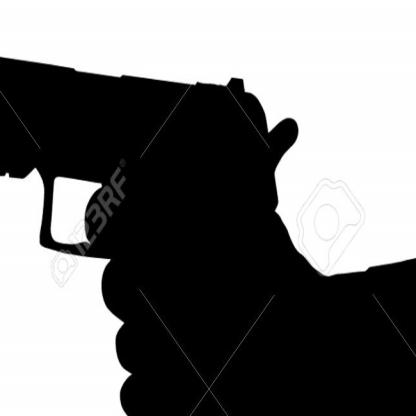gun: (0, 36, 300, 415)
